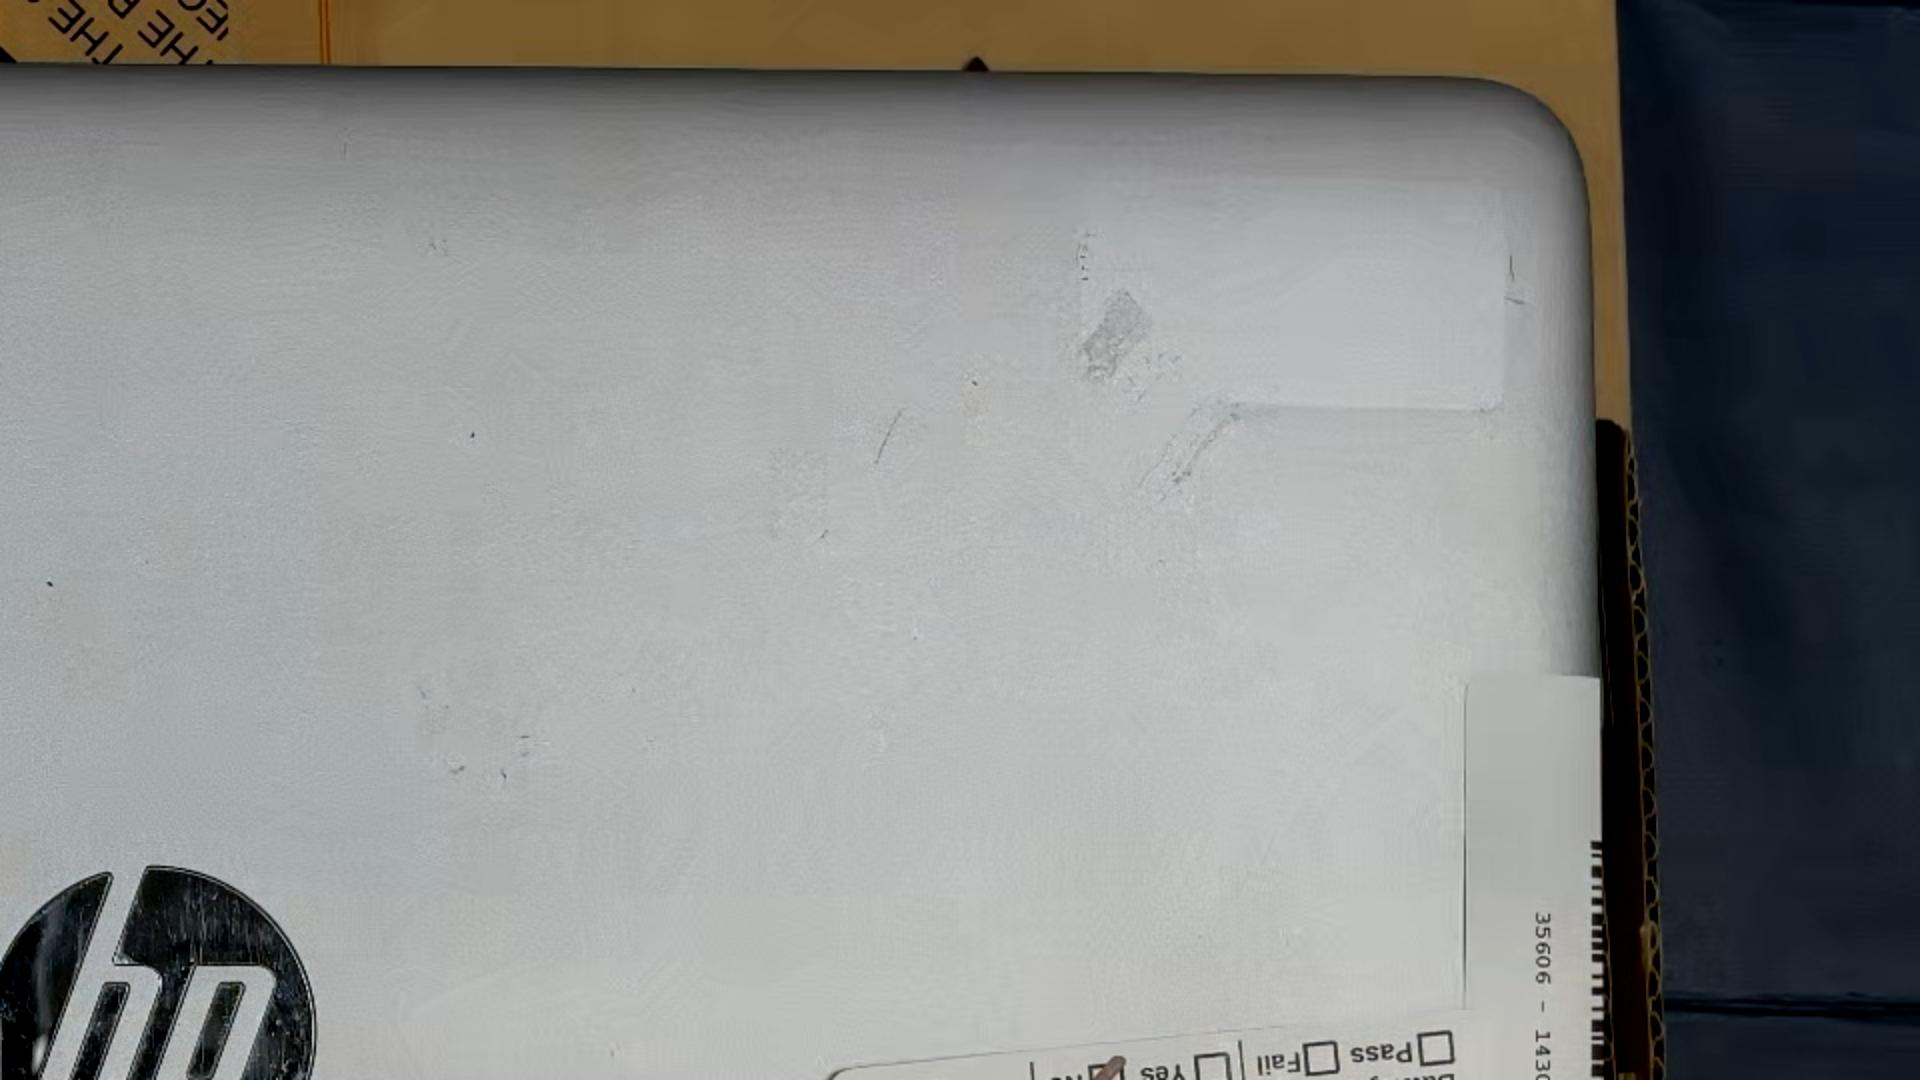chip: (467, 429, 479, 442), (45, 579, 55, 588)
scratches: (870, 406, 906, 467), (199, 1031, 207, 1077), (1507, 253, 1518, 284), (0, 1005, 4, 1080), (1503, 294, 1528, 306)
